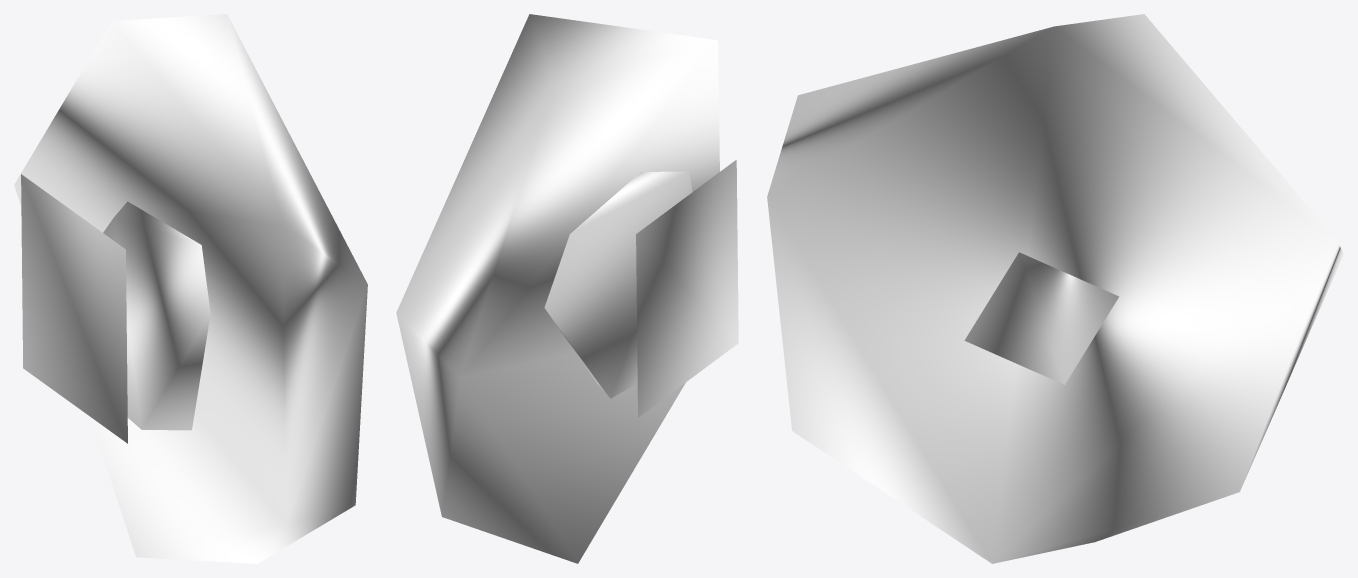
3 renders of one model, left to right at view 1: azimuth 30°, elevation 25°; view 2: azimuth 150°, elevation 25°; view 3: azimuth 270°, elevation 25°, orthographic. The views are drawn at different scales.
Size of the model in its own units: 0.1353 by 0.3574 by 0.3392.
1 material, 1 textured.
